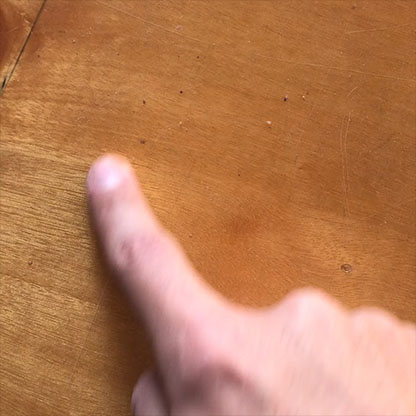fingertip: (80, 146, 142, 204)
